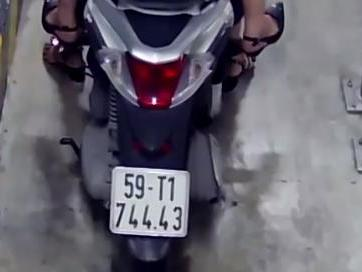num_plate: (108, 166, 190, 237)
